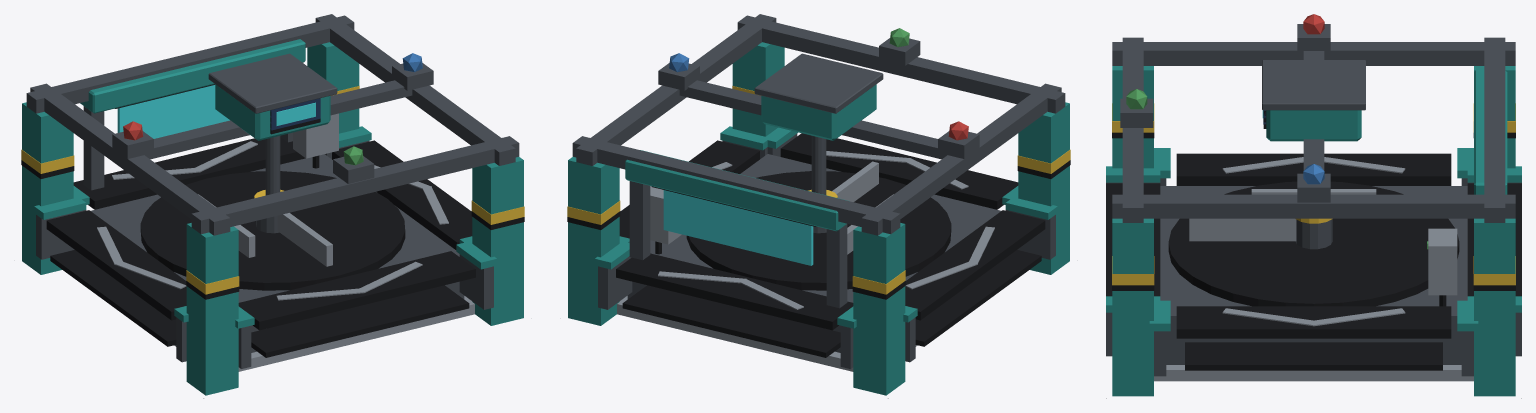
Rendered from trieur.glb.
3 views of the same model, side by side, from view 1: azimuth 30°, elevation 25°; view 2: azimuth 150°, elevation 25°; view 3: azimuth 270°, elevation 25° (orthographic). The views are drawn at different scales.
Visible parts, largest first — view 1: pieces_acier_sombre.022, pieces_noir.030, pieces_trieur.002, plateau_fond.006, scanner_cyan.002, pieces_acier.054, bande_acier.048, aiguillage_acier.004, pieces_jaune.024, pieces_cyan.002, pieces_panneau.002; view 2: pieces_acier_sombre.022, pieces_trieur.002, pieces_noir.030, plateau_fond.006, scanner_cyan.002, pieces_acier.054, bande_acier.048, pieces_jaune.024, aiguillage_acier.004; view 3: pieces_acier_sombre.022, pieces_noir.030, pieces_trieur.002, plateau_fond.006, pieces_acier.054, aiguillage_acier.004, bande_acier.048, pieces_jaune.024, aiguillage_acier_sombre.004, pieces_vert.002, pieces_bleu.002, pieces_rouge.002.
Part boxes in pixels (<box>): pieces_acier_sombre.022: <box>26,14,519,368</box>; pieces_noir.030: <box>21,84,524,357</box>; pieces_trieur.002: <box>22,39,523,395</box>; plateau_fond.006: <box>140,171,405,290</box>; scanner_cyan.002: <box>117,85,229,138</box>; pieces_acier.054: <box>174,113,474,371</box>; bande_acier.048: <box>97,141,448,300</box>; aiguillage_acier.004: <box>198,194,332,266</box>; pieces_jaune.024: <box>21,86,524,294</box>; pieces_cyan.002: <box>276,102,315,125</box>; pieces_panneau.002: <box>270,98,320,130</box>; pieces_acier_sombre.022: <box>572,14,1065,368</box>; pieces_trieur.002: <box>568,42,1069,395</box>; pieces_noir.030: <box>567,133,1070,357</box>; plateau_fond.006: <box>686,171,951,290</box>; scanner_cyan.002: <box>663,190,813,265</box>; pieces_acier.054: <box>617,186,917,371</box>; bande_acier.048: <box>658,151,994,309</box>; pieces_jaune.024: <box>567,86,1070,294</box>; aiguillage_acier.004: <box>832,161,893,254</box>; pieces_acier_sombre.022: <box>1106,24,1521,376</box>; pieces_noir.030: <box>1106,110,1521,370</box>; pieces_trieur.002: <box>1106,66,1521,396</box>; plateau_fond.006: <box>1168,181,1459,306</box>; pieces_acier.054: <box>1154,228,1473,381</box>; aiguillage_acier.004: <box>1189,189,1376,241</box>; bande_acier.048: <box>1222,157,1405,326</box>; pieces_jaune.024: <box>1112,103,1515,285</box>; aiguillage_acier_sombre.004: <box>1295,219,1332,249</box>; pieces_vert.002: <box>1126,89,1428,249</box>; pieces_bleu.002: <box>1303,164,1324,184</box>; pieces_rouge.002: <box>1303,14,1324,34</box>.
Bounding box in the file's own units: 1 × 0.61 × 1.
